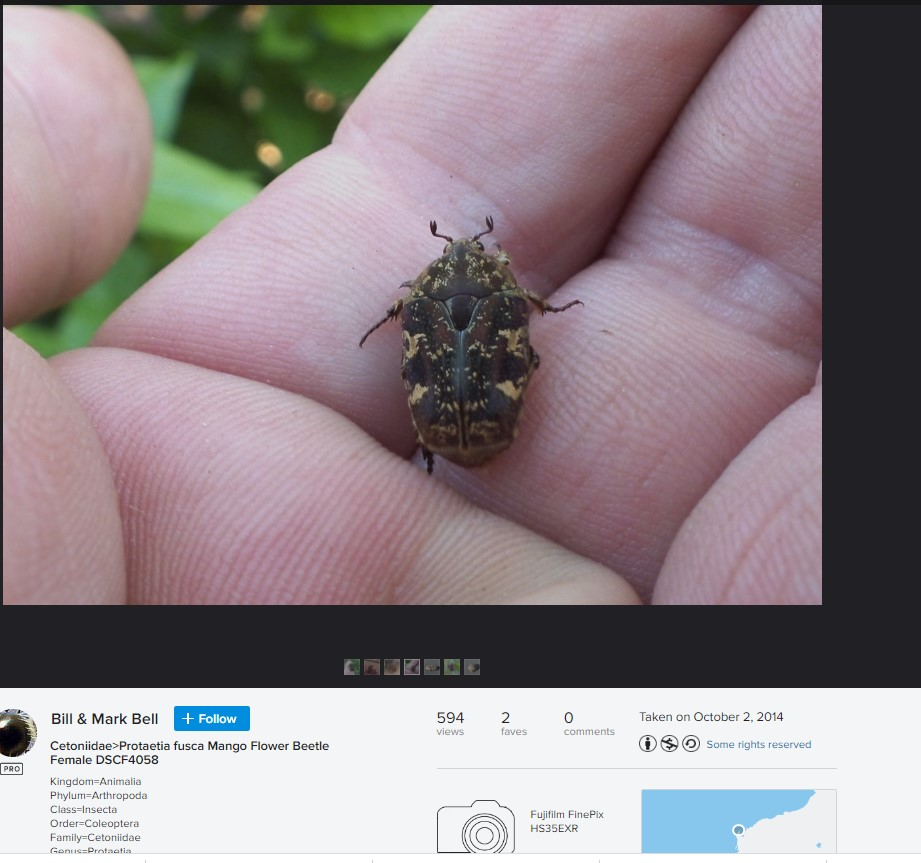Protaetia_fusca: (355, 217, 586, 484)
